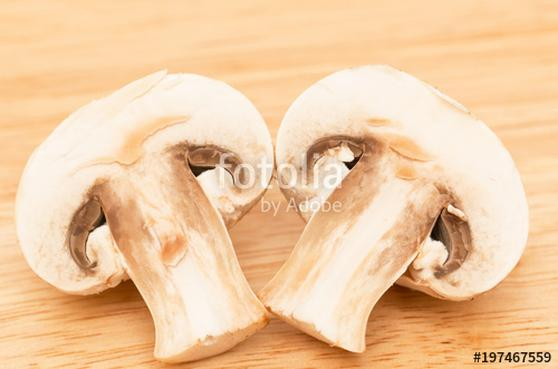champignon: (277, 57, 537, 349), (22, 71, 281, 352)
